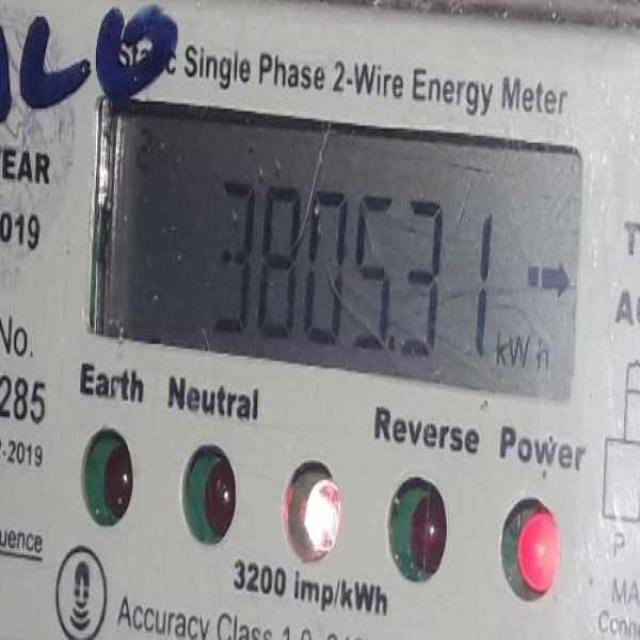0: (302, 180, 349, 358)
1: (452, 188, 500, 364)
3: (210, 163, 256, 347), (402, 178, 446, 360)
5: (348, 176, 389, 361)
8: (254, 171, 300, 347)
Digital meter: (110, 120, 578, 367)
point: (386, 333, 400, 363)
